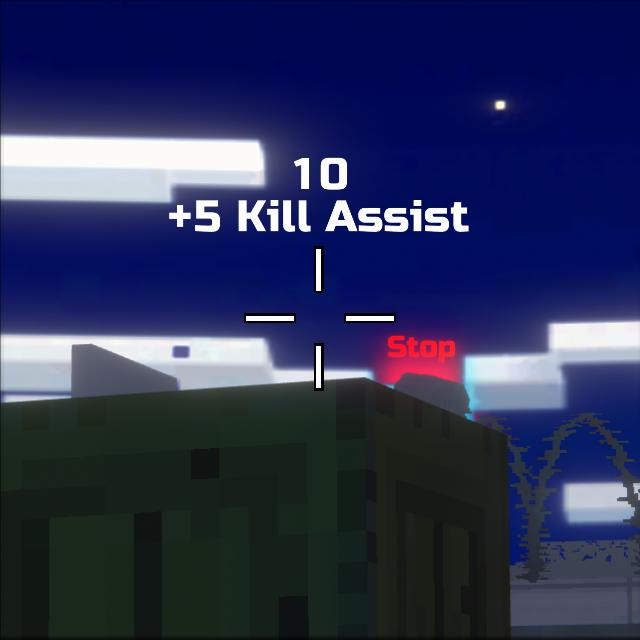Enemy: (394, 372, 472, 418)
